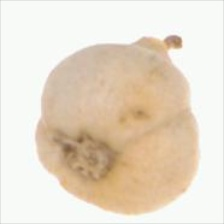L3: (125, 35, 183, 71)
L4: (34, 36, 200, 215)
